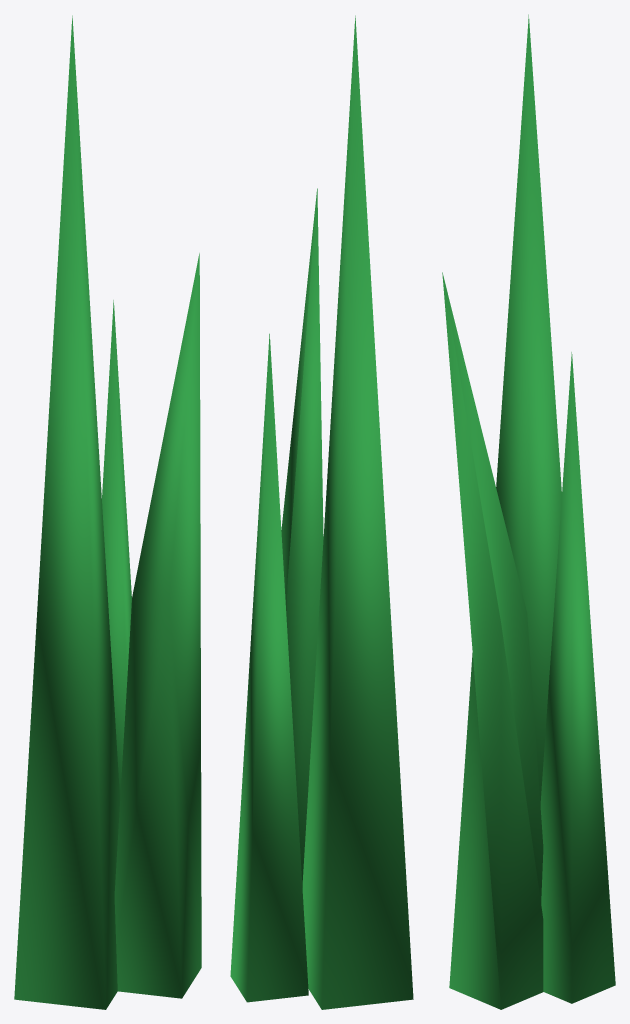
File: Grass1.fbx
The picture shows the model from 3 angles, left to right: view 1: azimuth 30°, elevation 25°; view 2: azimuth 150°, elevation 25°; view 3: azimuth 270°, elevation 25°; orthographic projection. The views are drawn at different scales.
Visible parts, largest first — view 1: Grass1; view 2: Grass1; view 3: Grass1.
Part boxes in pixels (x1,y1,x2,y2): Grass1: [14, 15, 201, 1009]; Grass1: [230, 15, 413, 1009]; Grass1: [442, 14, 615, 1009].
Size of the model in its own units: 121 by 651 by 109.
